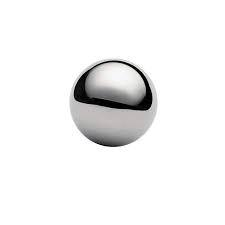steelball: (62, 55, 160, 149)
